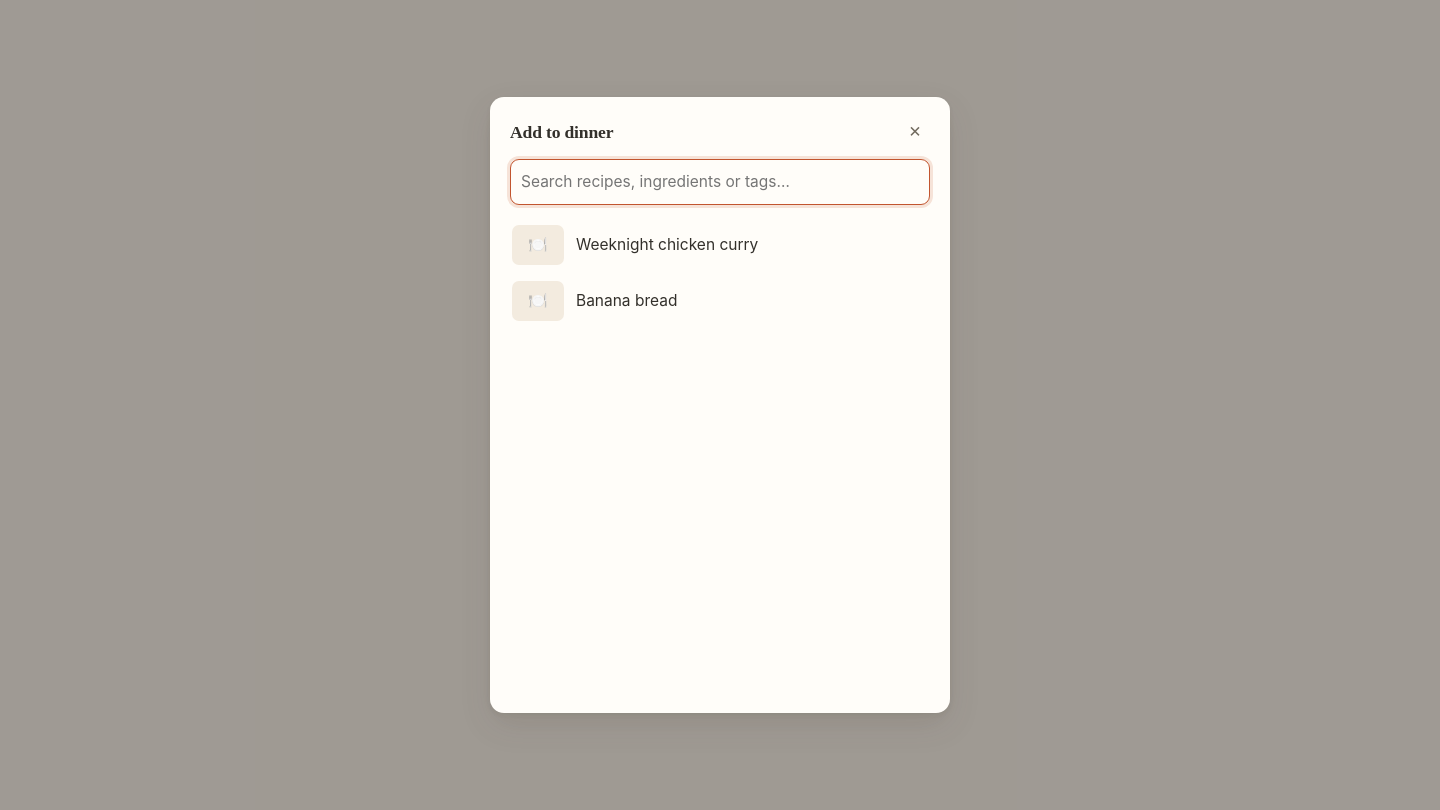
Test: RecipePickerModal › narrows the list through the server as the cook types
The image size is (1440, 810).
Expected: the button "🍽️ Weeknight chicken curry" is shown, [502,217,938,273]
Type "banana" into the dropdown labelled "Search recipes" at (720, 182), box [521,166,919,198]
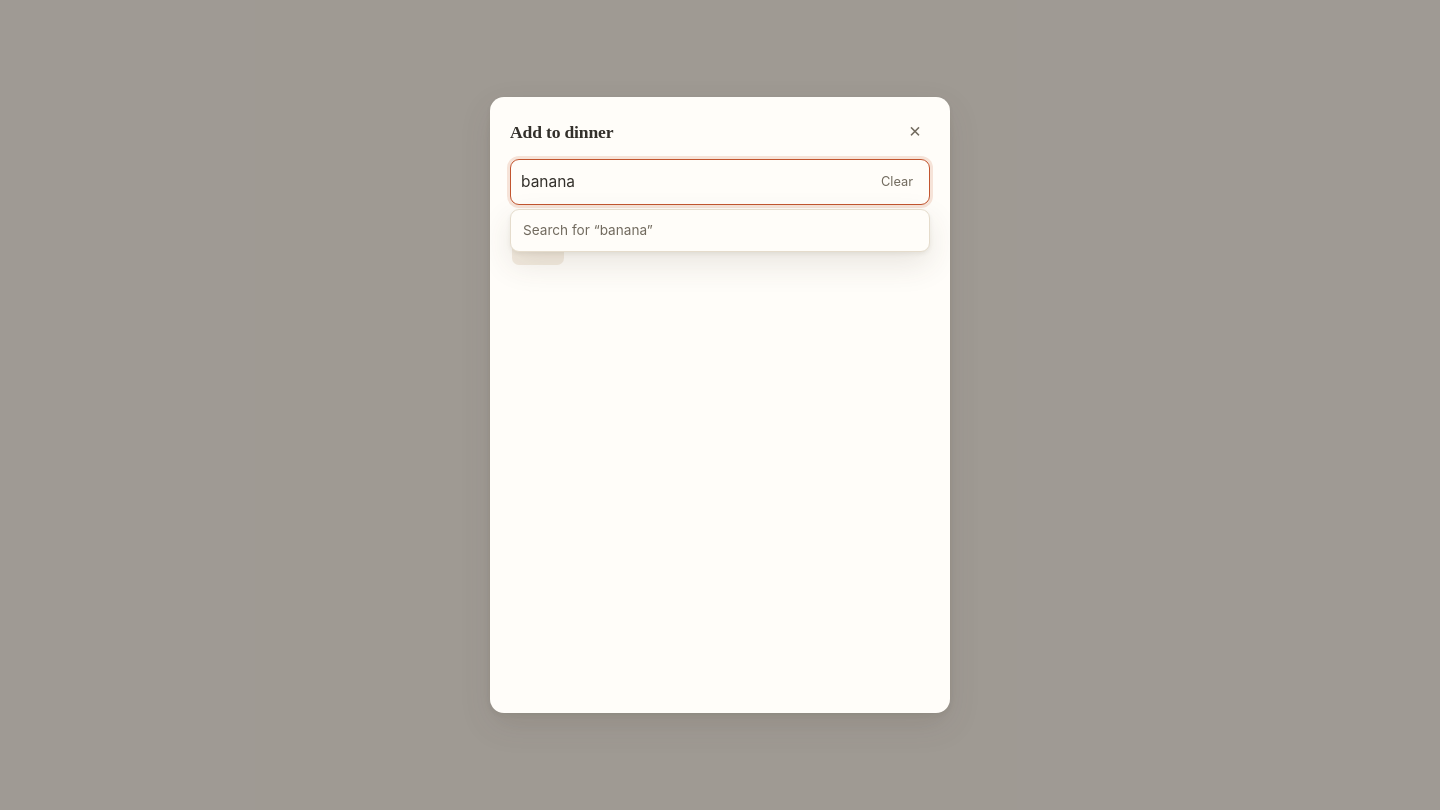
Expected: the button "🍽️ Banana bread" is shown, [502,217,938,273]
Now the button "Weeknight chicken curry" is gone
